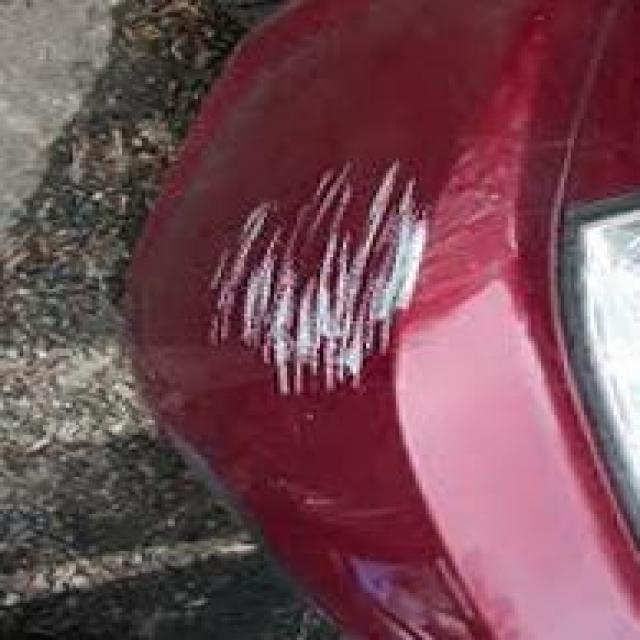scratch: (187, 153, 440, 410)
